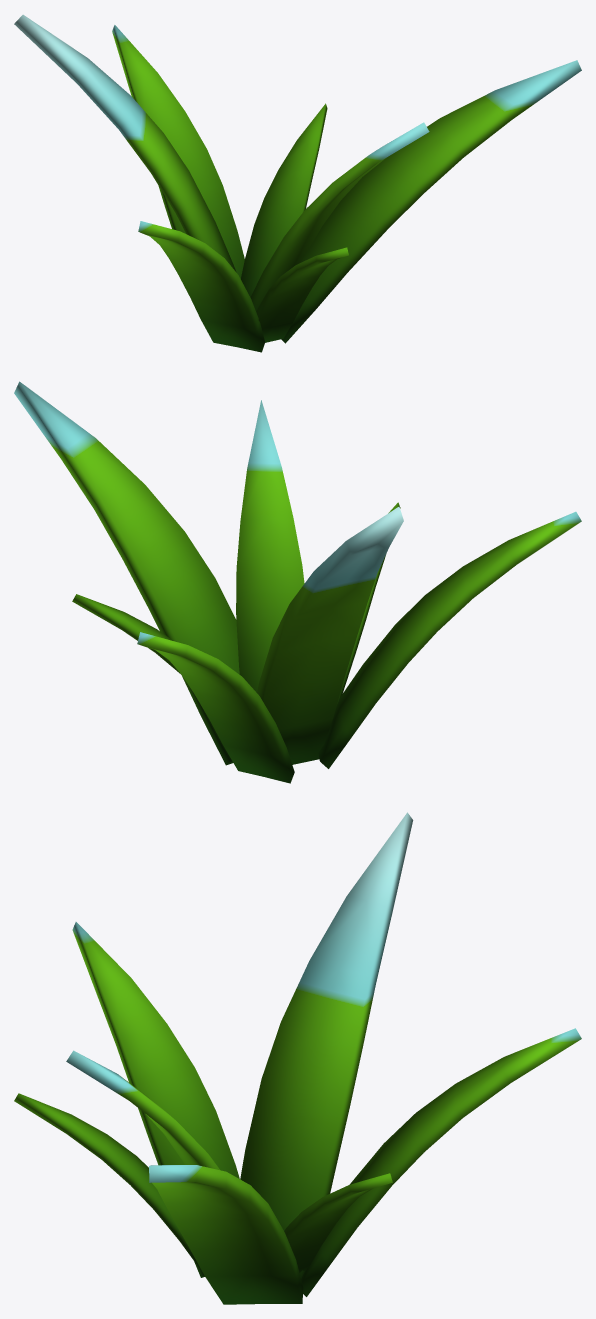
The model's file is Plant_1.fbx.
The picture shows the model from 3 angles, top to bottom: view 1: azimuth 30°, elevation 25°; view 2: azimuth 150°, elevation 25°; view 3: azimuth 270°, elevation 25°; orthographic projection. The views are drawn at different scales.
Parts seen in each view (by area): view 1: Plant_1; view 2: Plant_1; view 3: Plant_1.
Boxes of the visible parts, box(x1,y1,x2,y2) form: Plant_1: box(14, 14, 581, 352); Plant_1: box(14, 381, 581, 783); Plant_1: box(14, 812, 581, 1304).
Bounding box in the file's own units: 1 × 0.6406 × 0.8603.
